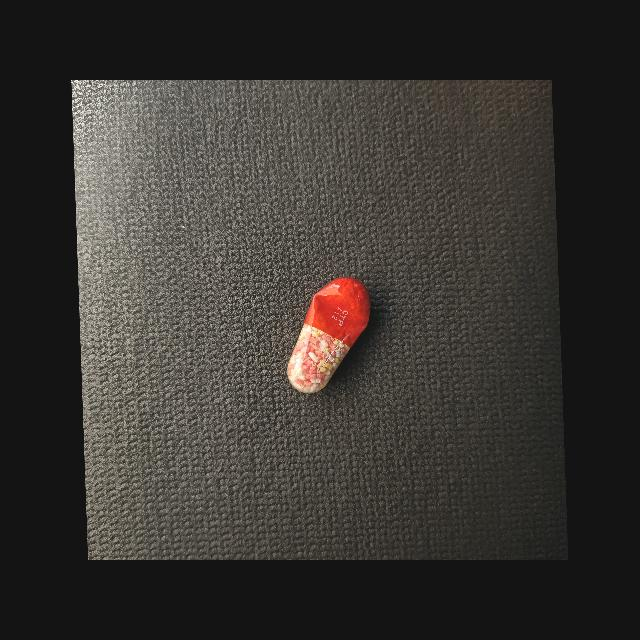Defective Capsule: (287, 277, 371, 393)
